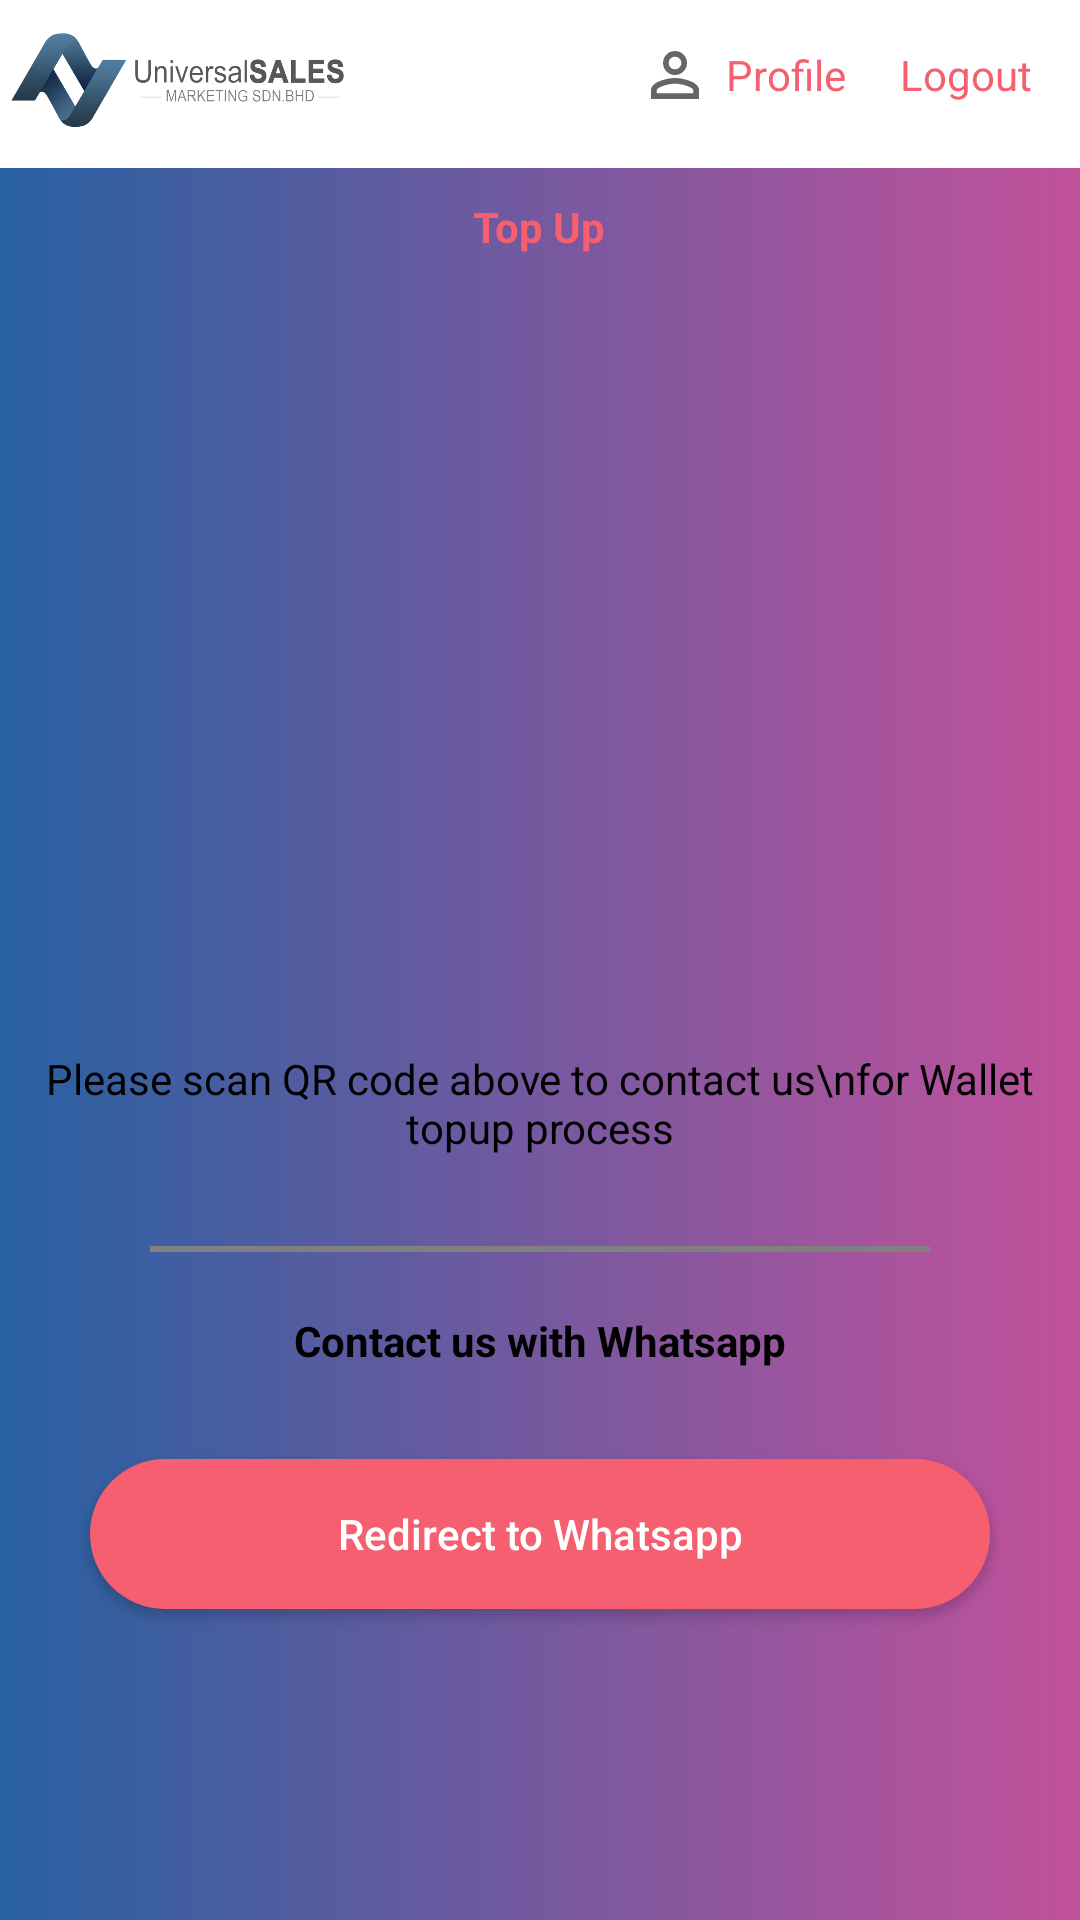

Locate icon controls on the screen. Image size 1080w x 1920h, boxes as (x1, y1, x2, y2).
person: (651, 51, 699, 99)
